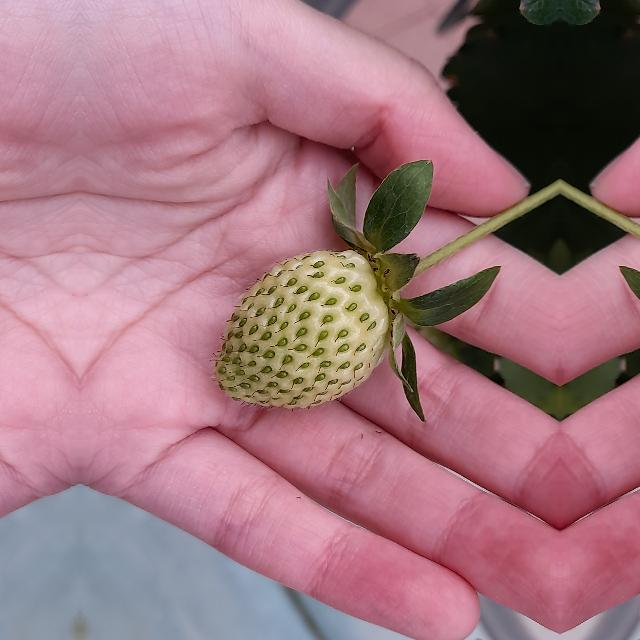Health_25: (214, 250, 388, 408)
